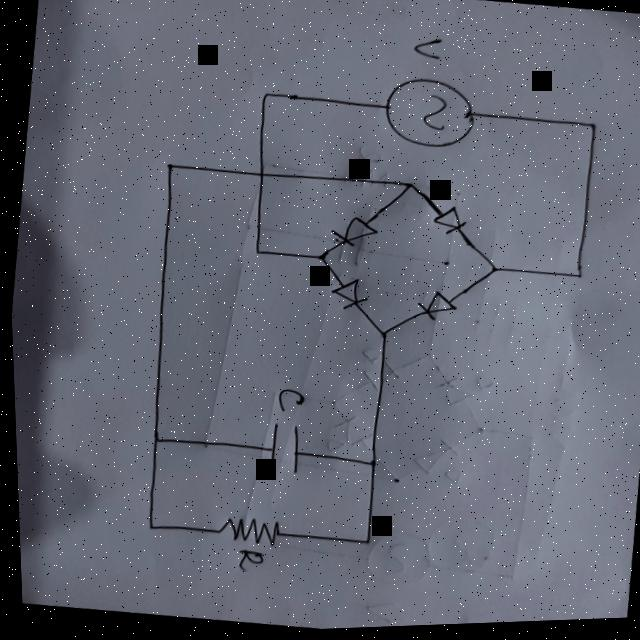capacitor: (259, 417, 302, 480)
crossover: (254, 171, 265, 181)
diode: (323, 212, 381, 256), (325, 277, 370, 317), (412, 289, 459, 325), (428, 206, 468, 241)
junction: (564, 270, 586, 289), (143, 431, 163, 450), (483, 265, 500, 280), (248, 246, 264, 260), (400, 182, 416, 196), (312, 251, 327, 265), (372, 330, 388, 342), (259, 90, 273, 103), (584, 124, 599, 135), (141, 521, 154, 533), (356, 538, 370, 548), (162, 162, 174, 171), (363, 461, 374, 470)
resistor: (209, 513, 279, 551)
source: (378, 73, 480, 159)
text: (408, 36, 445, 65), (271, 388, 304, 416), (228, 548, 261, 574)
